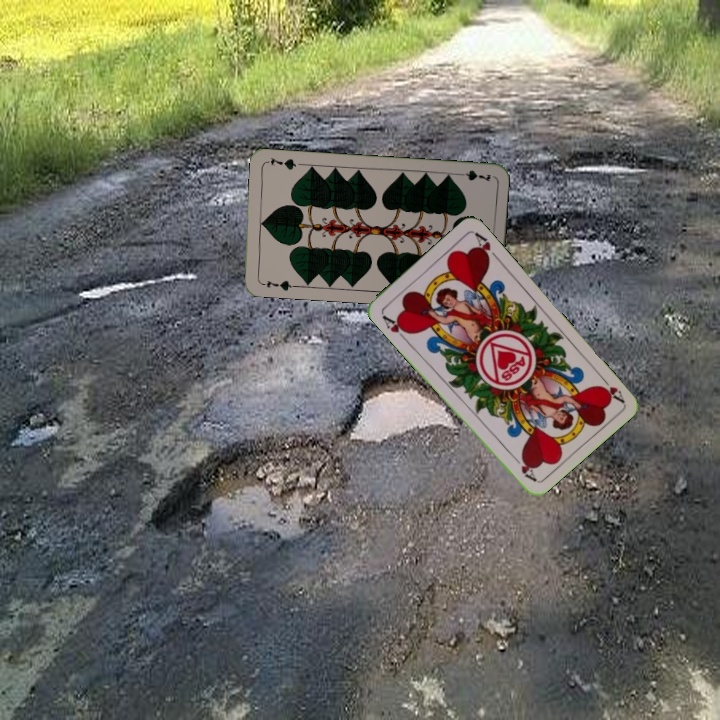G7: (453, 166, 493, 184), (257, 276, 297, 293)
HA: (378, 311, 413, 343), (594, 371, 626, 405)
